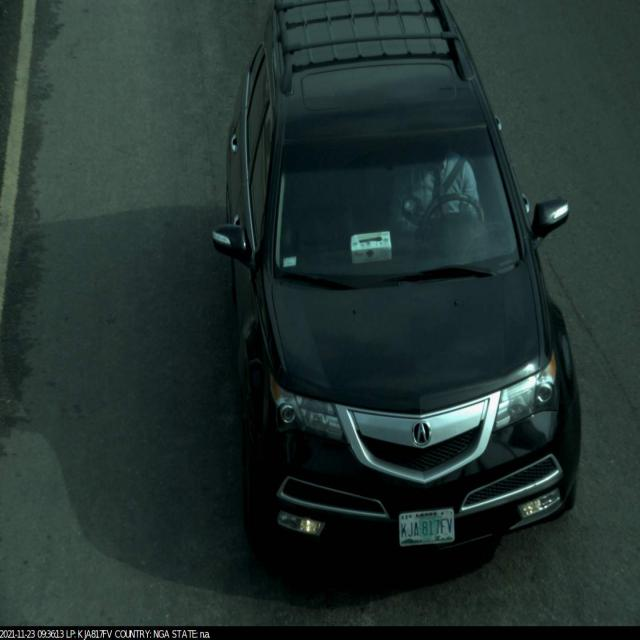windshield: (260, 119, 530, 295)
